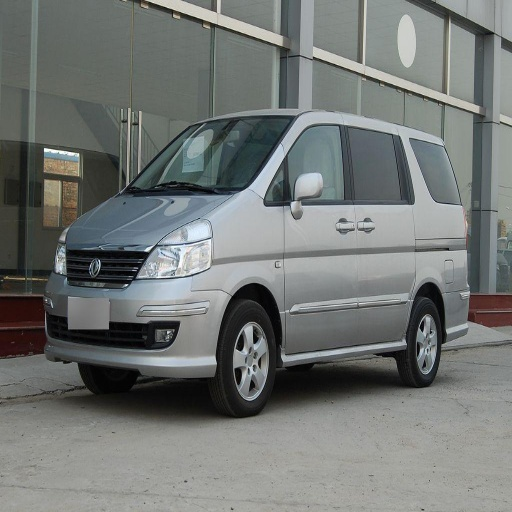front_bumper: (43, 242, 230, 374)
front_glass: (122, 116, 294, 195)
front_left_door: (269, 121, 360, 352)
trunk: (411, 231, 465, 319)
